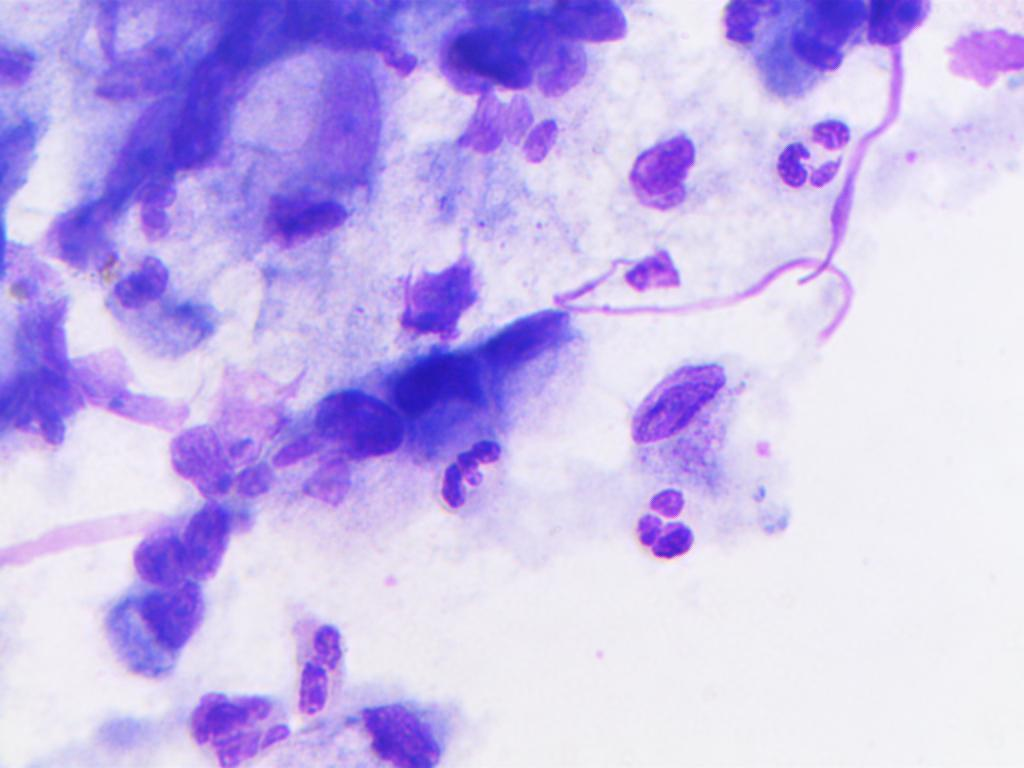artifact: (548, 247, 861, 344), (388, 253, 484, 342), (942, 17, 1024, 104), (623, 137, 702, 217)
epithelial: (311, 384, 404, 463), (169, 428, 242, 499), (180, 501, 231, 590), (217, 397, 284, 461), (129, 531, 191, 588), (862, 0, 927, 50), (118, 259, 174, 302)
goblet_cell: (622, 352, 791, 482), (103, 583, 208, 682)
neutrophil: (276, 601, 349, 727), (464, 88, 572, 171), (184, 685, 291, 768), (763, 116, 865, 195), (427, 438, 514, 515), (626, 482, 702, 568), (126, 178, 194, 249)
